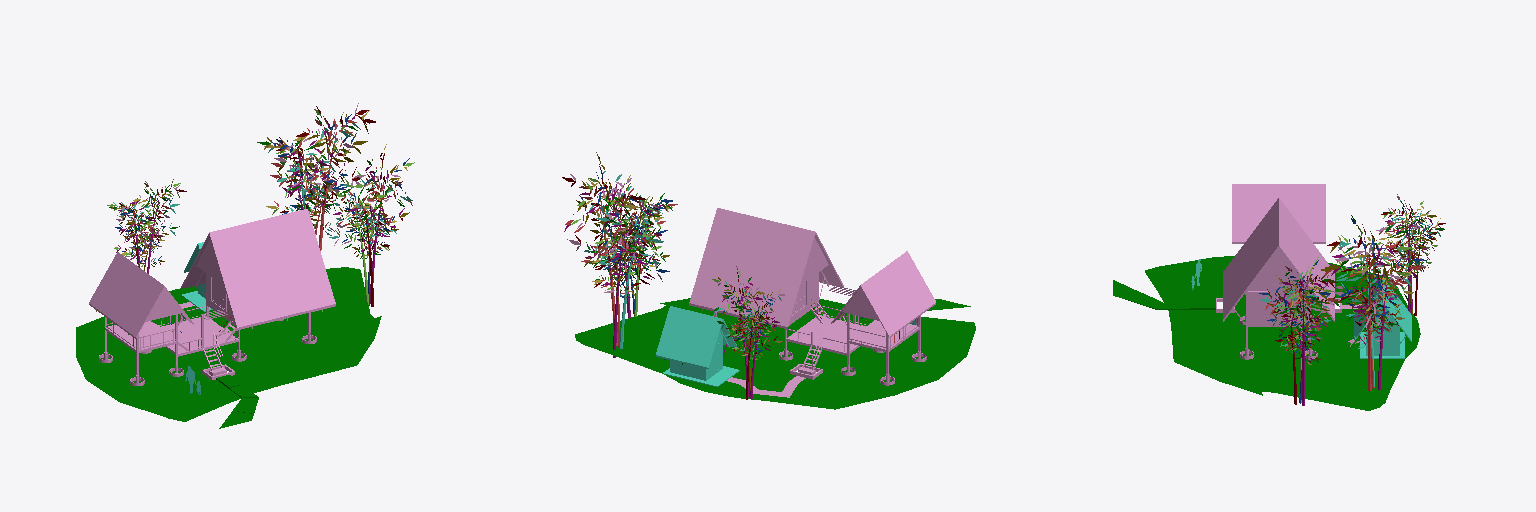
The picture shows the model from 3 angles: view 1: azimuth 30°, elevation 25°; view 2: azimuth 150°, elevation 25°; view 3: azimuth 270°, elevation 25°; orthographic projection.
Parts seen in each view (by area): view 1: tree_001, Layer0_001, Group_025; view 2: Layer0_001, tree_001, wc_001, Group_025; view 3: tree_001, Layer0_001, wc_001.
Part boxes in pixels (bbox=[...]): tree_001: bbox=[76, 267, 381, 428]; Layer0_001: bbox=[89, 209, 335, 385]; Group_025: bbox=[159, 316, 238, 353]; Layer0_001: bbox=[689, 208, 935, 397]; tree_001: bbox=[575, 298, 975, 409]; wc_001: bbox=[656, 306, 739, 386]; Group_025: bbox=[786, 306, 865, 352]; tree_001: bbox=[1113, 256, 1420, 410]; Layer0_001: bbox=[1216, 184, 1361, 359]; wc_001: bbox=[1354, 280, 1411, 358].
Size of the model in its own units: 856 by 437 by 727.